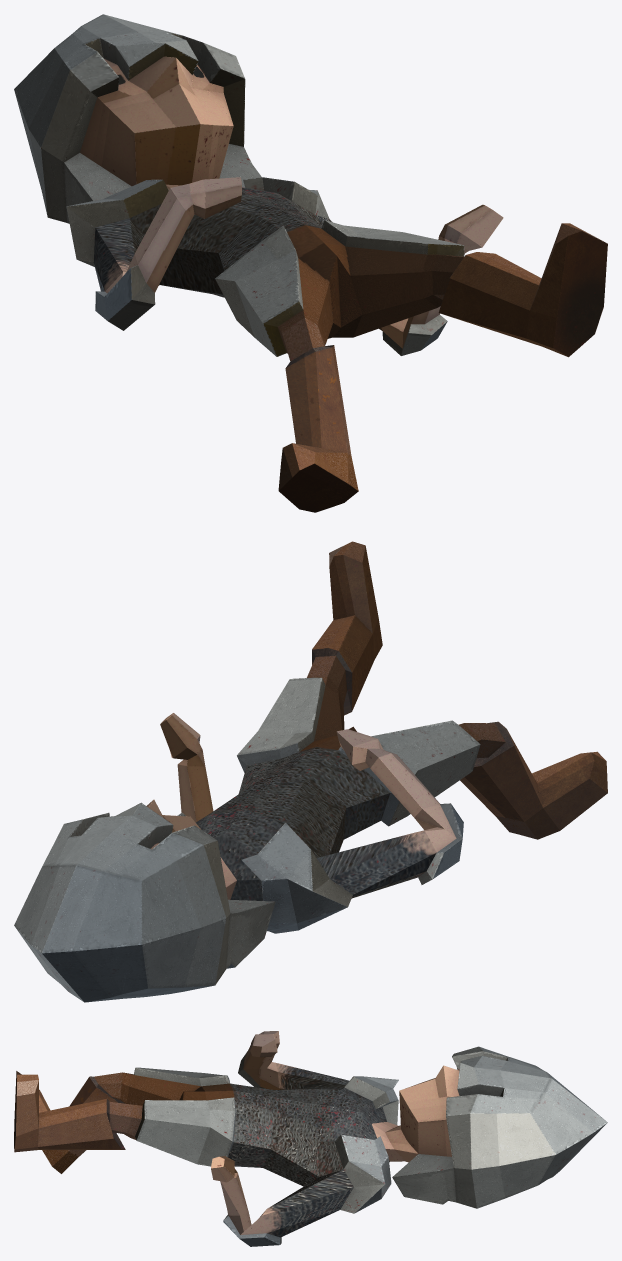
Rendered from Walk_Soldier_20.obj.
The picture shows the model from 3 angles, top to bottom: view 1: azimuth 30°, elevation 25°; view 2: azimuth 150°, elevation 25°; view 3: azimuth 270°, elevation 25°; orthographic projection. The views are drawn at different scales.
Visible parts, largest first — view 1: Soldado_LowPolySTD; view 2: Soldado_LowPolySTD; view 3: Soldado_LowPolySTD.
Part boxes in pixels (box(x1,y1,x2,y2)): Soldado_LowPolySTD: box(14, 14, 607, 512); Soldado_LowPolySTD: box(14, 541, 607, 1002); Soldado_LowPolySTD: box(14, 1031, 607, 1246).
Size of the model in its own units: 0.767 by 0.5084 by 1.59.
